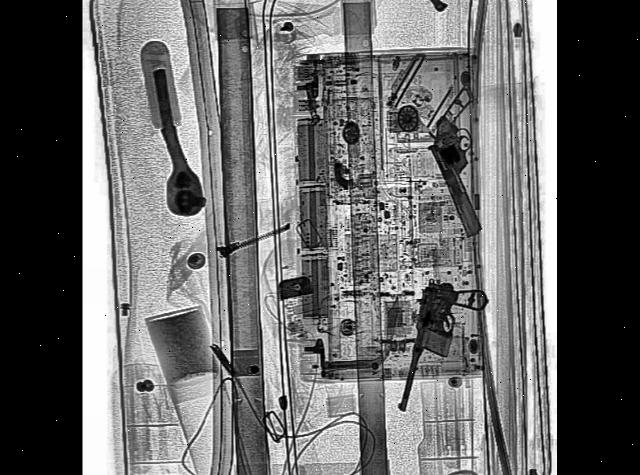Gun: (390, 258, 490, 442), (418, 83, 517, 244), (357, 0, 446, 13)
